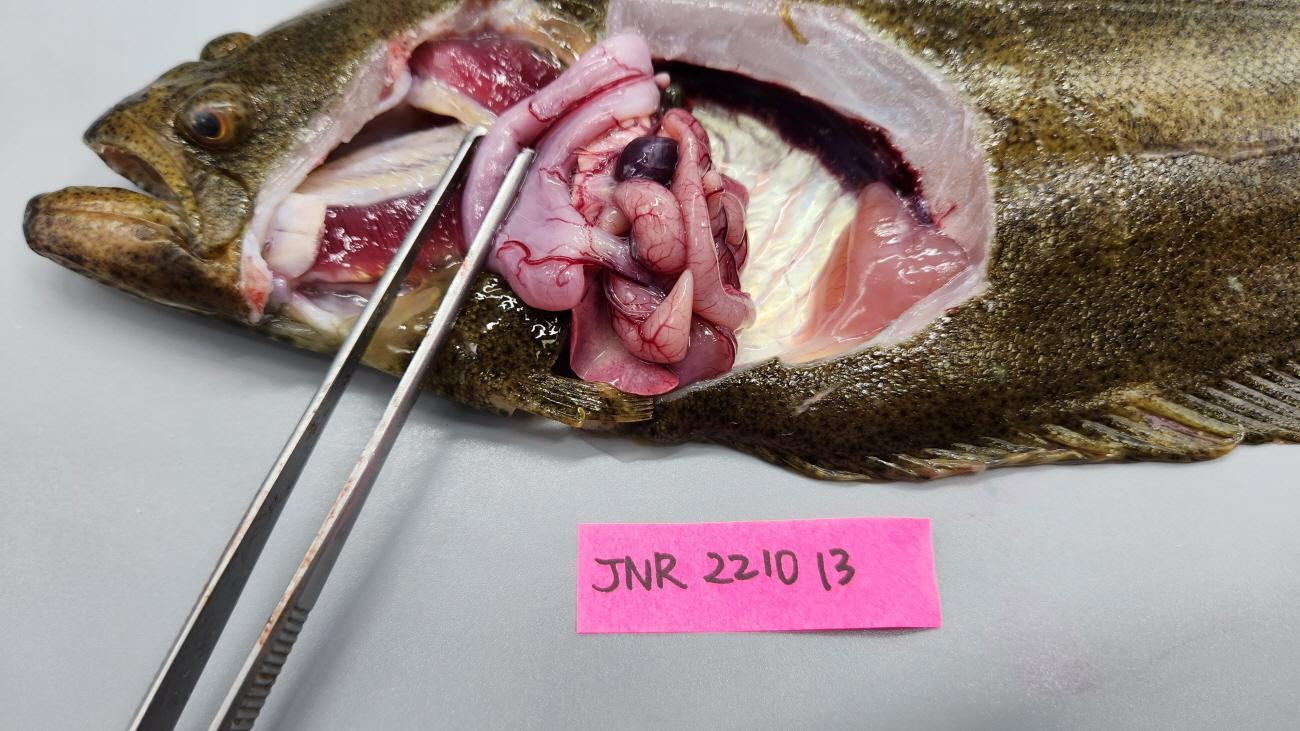POINN: (613, 107, 758, 330)
POSPN: (612, 134, 678, 191)
